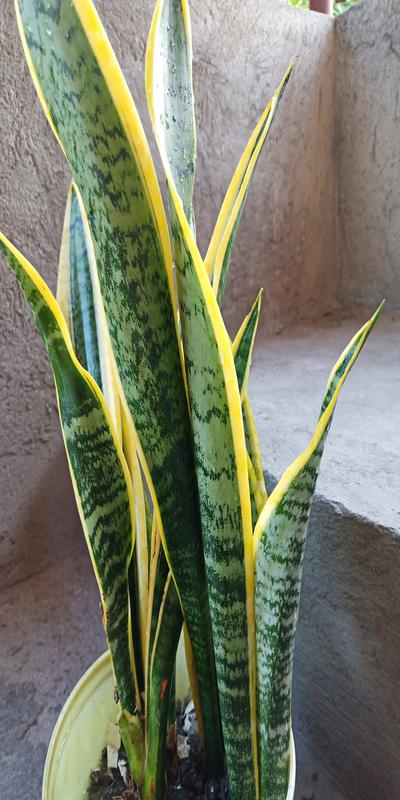Snake plant: (16, 20, 391, 773)
